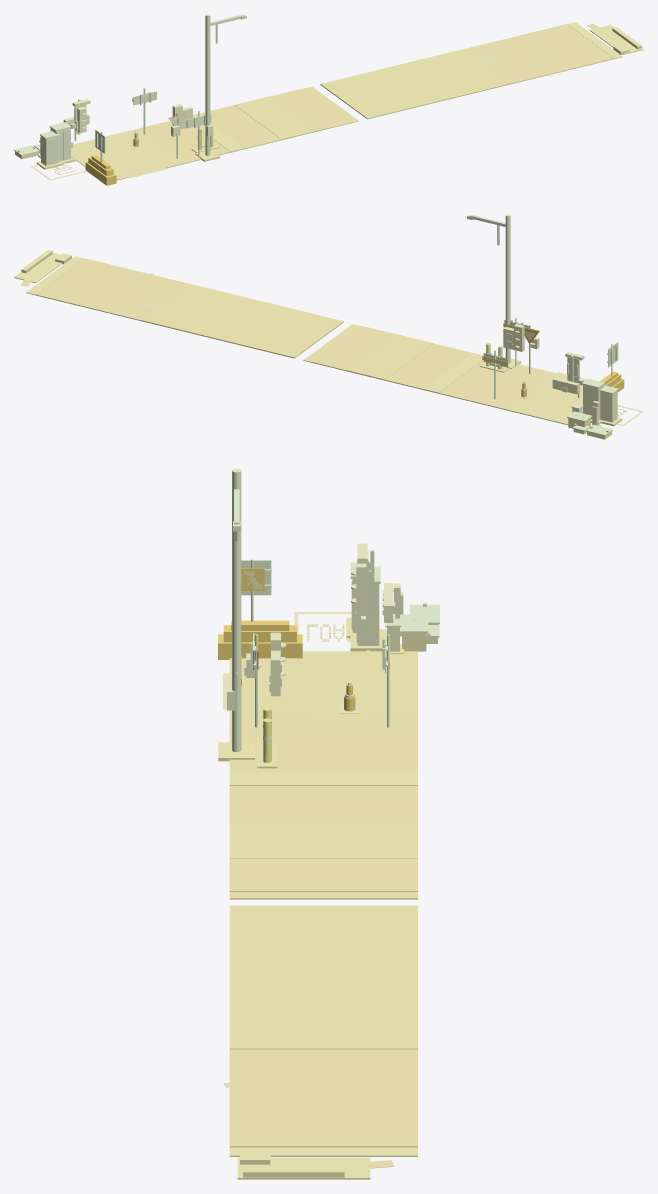
Rendered from scene_wet_road_braking.glb.
3 views of the same model, one above another, from view 1: azimuth 30°, elevation 25°; view 2: azimuth 150°, elevation 25°; view 3: azimuth 270°, elevation 25° (orthographic). The views are drawn at different scales.
Parts seen in each view (by area): view 1: base (×4), travel_lane (×2), body, gravel_lane, asphalt_lane, lane, outer_shoulder, pole, bulbout_apron, gutter_strip, gutter, dropoff_fill; view 2: base (×3), travel_lane (×2), body, lane, gravel_lane, asphalt_lane, outer_shoulder, cabinet (×2), gutter, pole, bulbout_apron, gutter_strip (+1 smaller); view 3: base (×4), travel_lane (×2), body, lane, gravel_lane, asphalt_lane, gutter, pole, bulbout_apron, gutter_strip, dropoff_fill, curb_return.
Part boxes in pixels (left/top/right/bottom): base (×4): left=85, top=32, right=578, bottom=185; travel_lane (×2): left=272, top=24, right=613, bottom=134; body: left=71, top=128, right=188, bottom=180; gravel_lane: left=235, top=96, right=318, bottom=139; asphalt_lane: left=198, top=105, right=281, bottom=149; lane: left=125, top=121, right=230, bottom=166; outer_shoulder: left=322, top=78, right=393, bottom=118; pole: left=205, top=14, right=210, bottom=155; bulbout_apron: left=590, top=25, right=643, bottom=54; gutter_strip: left=567, top=22, right=622, bottom=58; gutter: left=193, top=114, right=244, bottom=152; dropoff_fill: left=305, top=86, right=358, bottom=122; base (×3): left=71, top=267, right=343, bottom=358; travel_lane (×2): left=35, top=258, right=394, bottom=370; body: left=483, top=367, right=585, bottom=425; lane: left=438, top=360, right=549, bottom=407; gravel_lane: left=346, top=334, right=433, bottom=380; asphalt_lane: left=385, top=343, right=472, bottom=391; outer_shoulder: left=266, top=314, right=341, bottom=357; cabinet (×2): left=583, top=385, right=617, bottom=422; gutter: left=424, top=353, right=483, bottom=393; pole: left=505, top=214, right=510, bottom=363; bulbout_apron: left=14, top=252, right=62, bottom=283; gutter_strip: left=26, top=256, right=83, bottom=295; base (×4): left=218, top=634, right=417, bottom=1112; travel_lane (×2): left=229, top=858, right=417, bottom=1146; body: left=229, top=651, right=417, bottom=730; lane: left=229, top=715, right=417, bottom=771; gravel_lane: left=229, top=821, right=417, bottom=858; asphalt_lane: left=229, top=786, right=417, bottom=821; gutter: left=229, top=772, right=417, bottom=785; pole: left=232, top=468, right=241, bottom=751; bulbout_apron: left=237, top=1157, right=370, bottom=1179; gutter_strip: left=229, top=1147, right=417, bottom=1156; dropoff_fill: left=229, top=891, right=417, bottom=899; curb_return: left=243, top=1168, right=344, bottom=1177.
Bounding box in the file's own units: 28.46 × 6.64 × 4.72.
